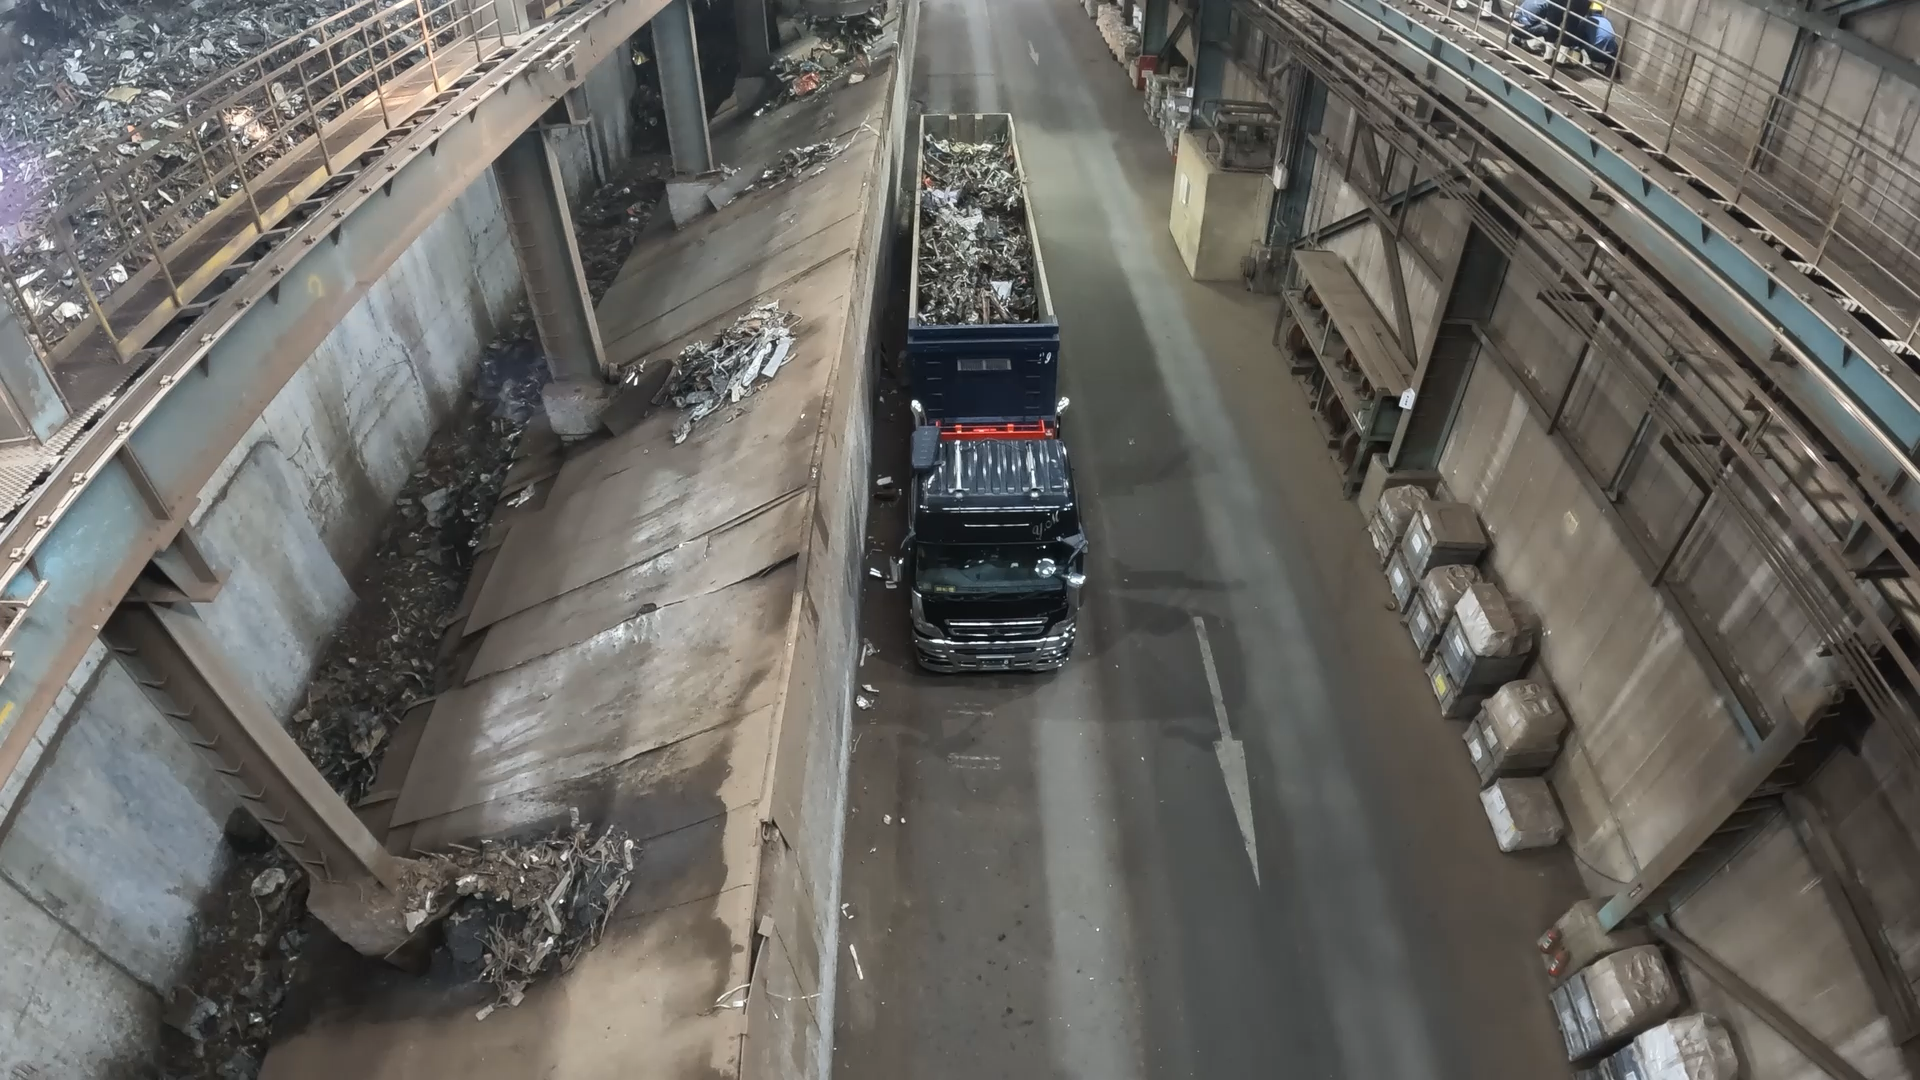truck: (911, 113, 1056, 327)
